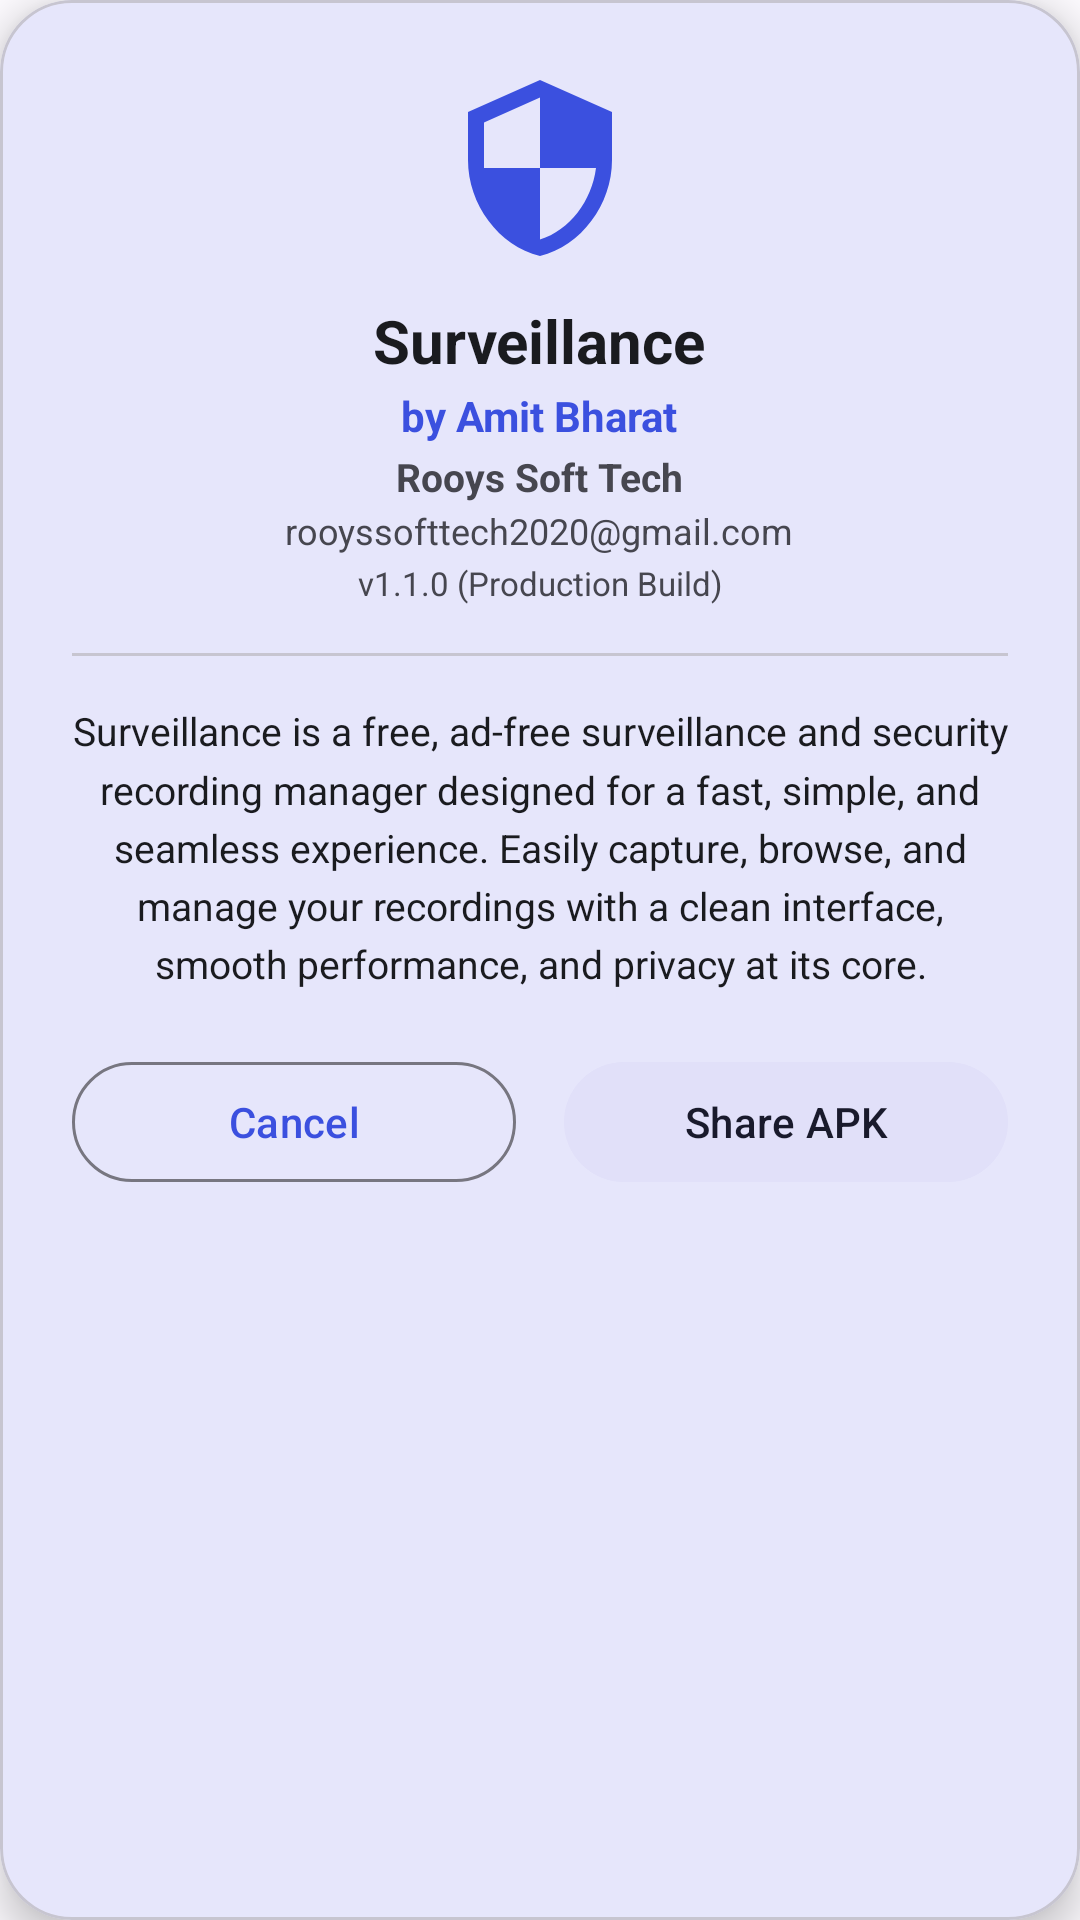

Icons on this 1080×1920 Android screen, each with its box as bbox=(x1, y1, x2, y2):
security shield: bbox=(468, 80, 612, 256)
